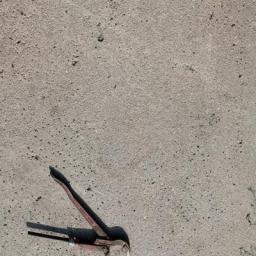FOD: (26, 166, 135, 256)
